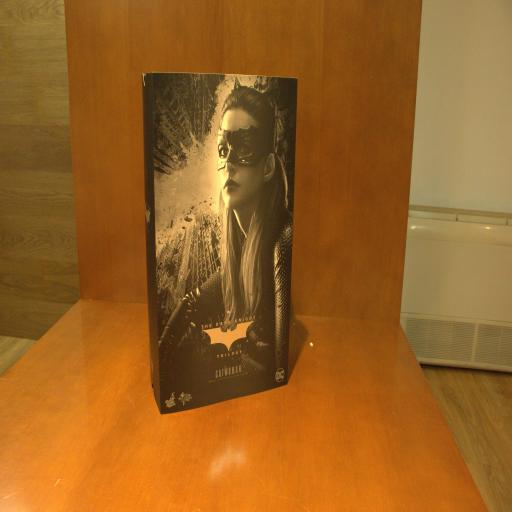catwoman: (142, 72, 297, 414)
